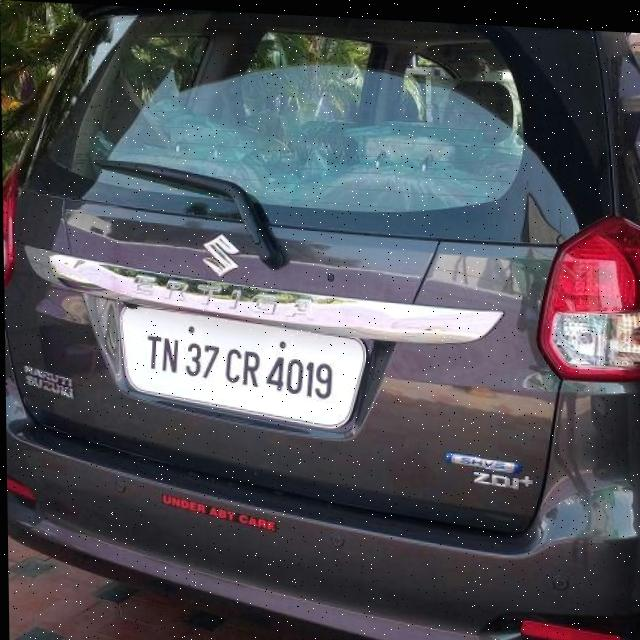plate: (122, 303, 370, 457)
